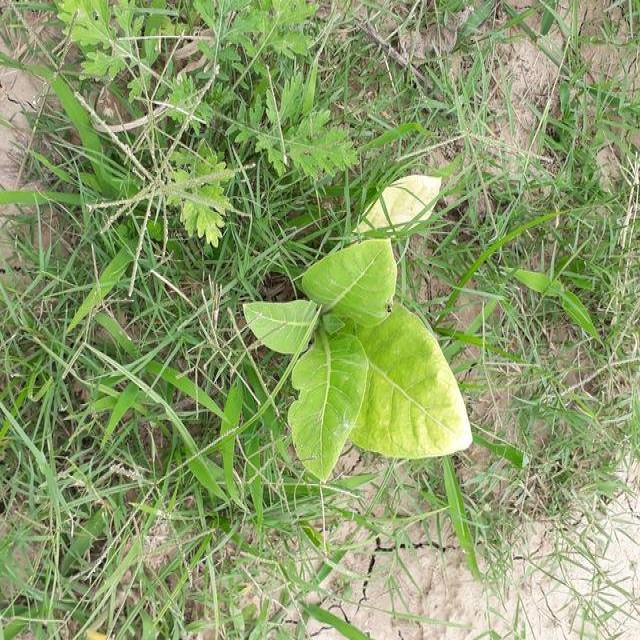crop: (242, 190, 487, 493)
